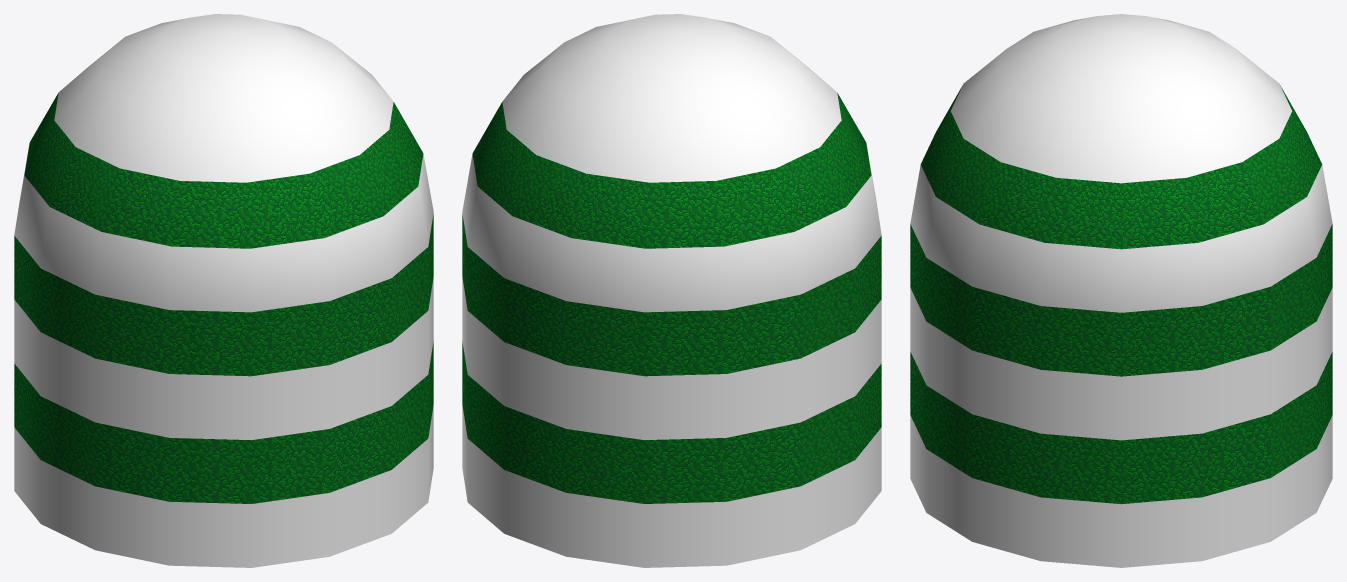
Rendered from snowMountain.obj.
3 renders of one model, left to right at view 1: azimuth 30°, elevation 25°; view 2: azimuth 150°, elevation 25°; view 3: azimuth 270°, elevation 25°, orthographic.
Parts seen in each view (by area): view 1: Hill_Mat_1.001, Hill_Mat_2.001; view 2: Hill_Mat_1.001, Hill_Mat_2.001; view 3: Hill_Mat_1.001, Hill_Mat_2.001.
Part boxes in pixels (box(x1,y1,x2,y2)): Hill_Mat_1.001: box(14, 14, 433, 567); Hill_Mat_2.001: box(14, 93, 433, 503); Hill_Mat_1.001: box(462, 14, 881, 567); Hill_Mat_2.001: box(462, 93, 881, 503); Hill_Mat_1.001: box(910, 14, 1332, 567); Hill_Mat_2.001: box(910, 85, 1332, 504).
Size of the model in its own units: 24.33 by 28.38 by 24.33.
Materials: 2 (2 with a texture image).
